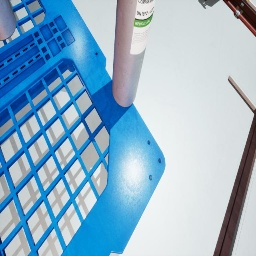0: (112, 0, 156, 107), (0, 0, 17, 41)
NitrogenTank ,: (203, 0, 207, 1)
